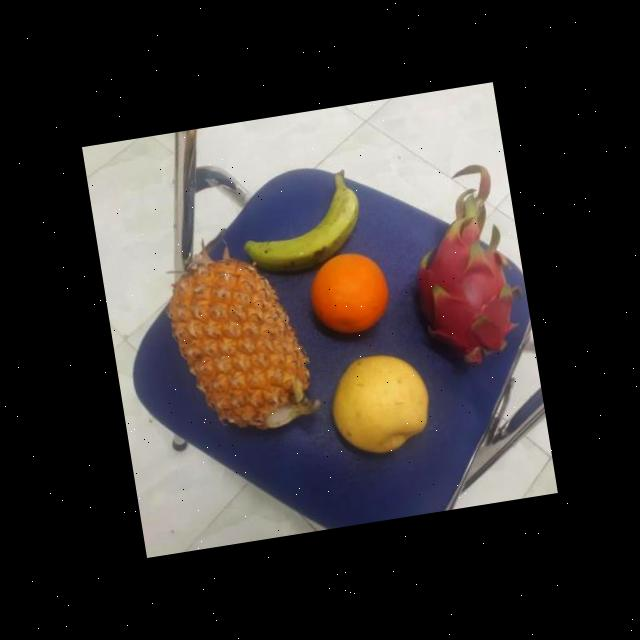banana: (236, 170, 365, 276)
orange: (302, 249, 396, 341)
pear: (316, 350, 432, 460)
pineapple: (158, 250, 320, 446)
pitaya: (398, 212, 534, 376)
